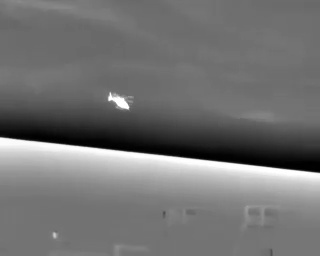HELICOPTER: (105, 87, 139, 118)
